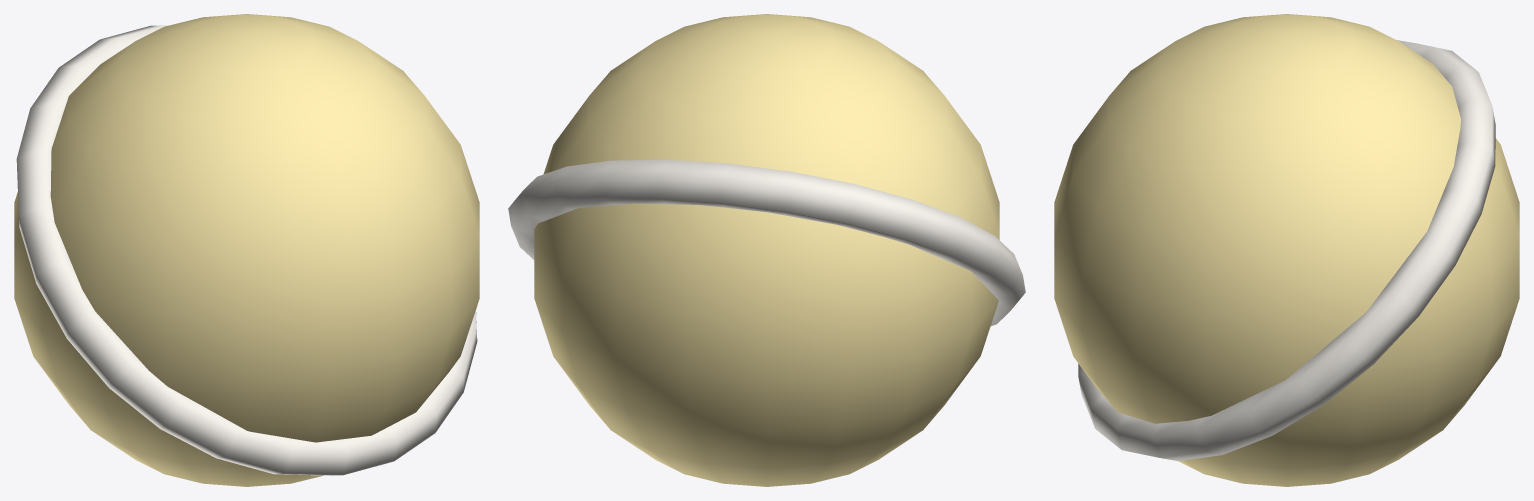
File: companion-animals-and-pet-home-ball-62652476__20655.glb
3 views of the same model, side by side, from view 1: azimuth 30°, elevation 25°; view 2: azimuth 150°, elevation 25°; view 3: azimuth 270°, elevation 25° (orthographic).
Parts seen in each view (by area): view 1: ball; view 2: ball; view 3: ball.
Part boxes in pixels (x1,y1,x2,y2): ball: (14, 14, 479, 486); ball: (508, 14, 1025, 486); ball: (1054, 14, 1519, 486).
Bounding box in the file's own units: 0.0864 × 0.08 × 0.078.
